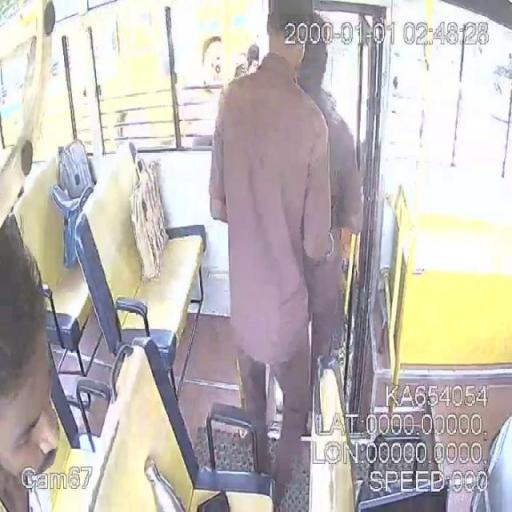persona: (206, 4, 337, 509), (0, 212, 61, 510)
